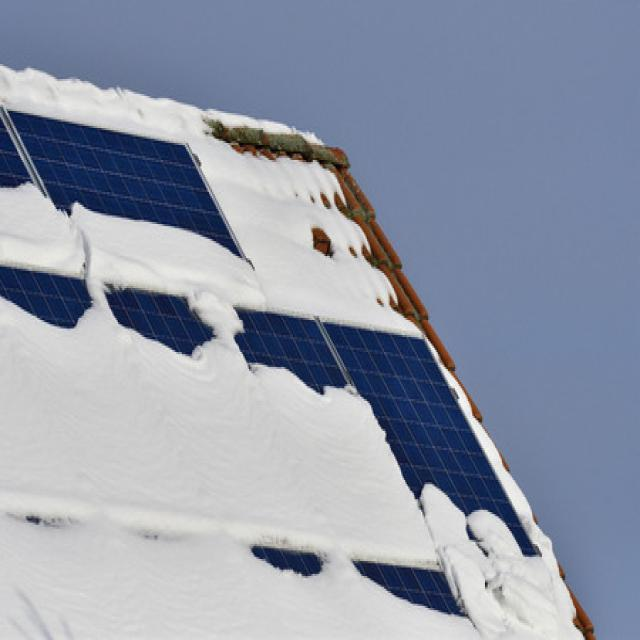Anomaly Solar Panel: (0, 263, 442, 567), (0, 508, 473, 639), (0, 108, 269, 304)
Snow: (0, 276, 440, 569), (0, 510, 474, 639), (0, 182, 266, 311), (420, 482, 547, 577)
